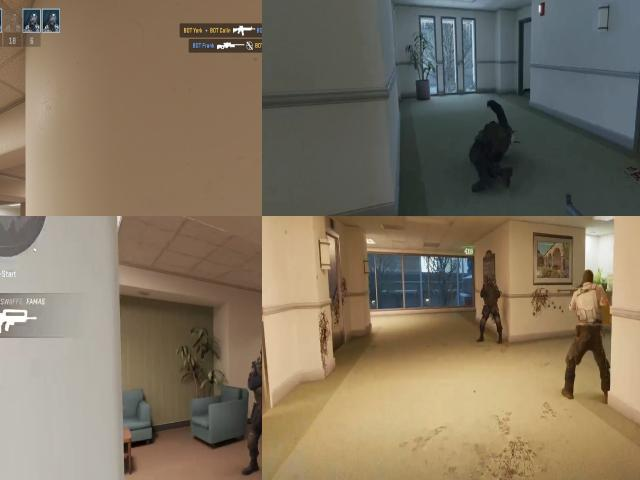CT: (249, 339, 262, 464), (481, 284, 504, 312)
CT-Head: (485, 276, 496, 292), (257, 341, 262, 369)
Dead: (467, 101, 519, 199)
T: (566, 282, 610, 326), (580, 267, 598, 286)
